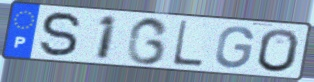1: (96, 14, 118, 62)
G: (124, 16, 171, 66), (213, 24, 256, 70)
L: (170, 19, 205, 69)
O: (256, 27, 301, 74)
S: (38, 10, 83, 59)
